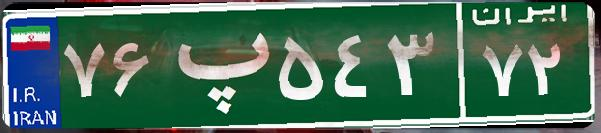2: (525, 38, 570, 115)
3: (385, 28, 445, 110)
4: (330, 28, 385, 110)
5: (273, 28, 330, 110)
6: (110, 28, 158, 105)
7: (57, 26, 110, 107), (475, 38, 525, 113)
پ: (158, 15, 273, 115)
